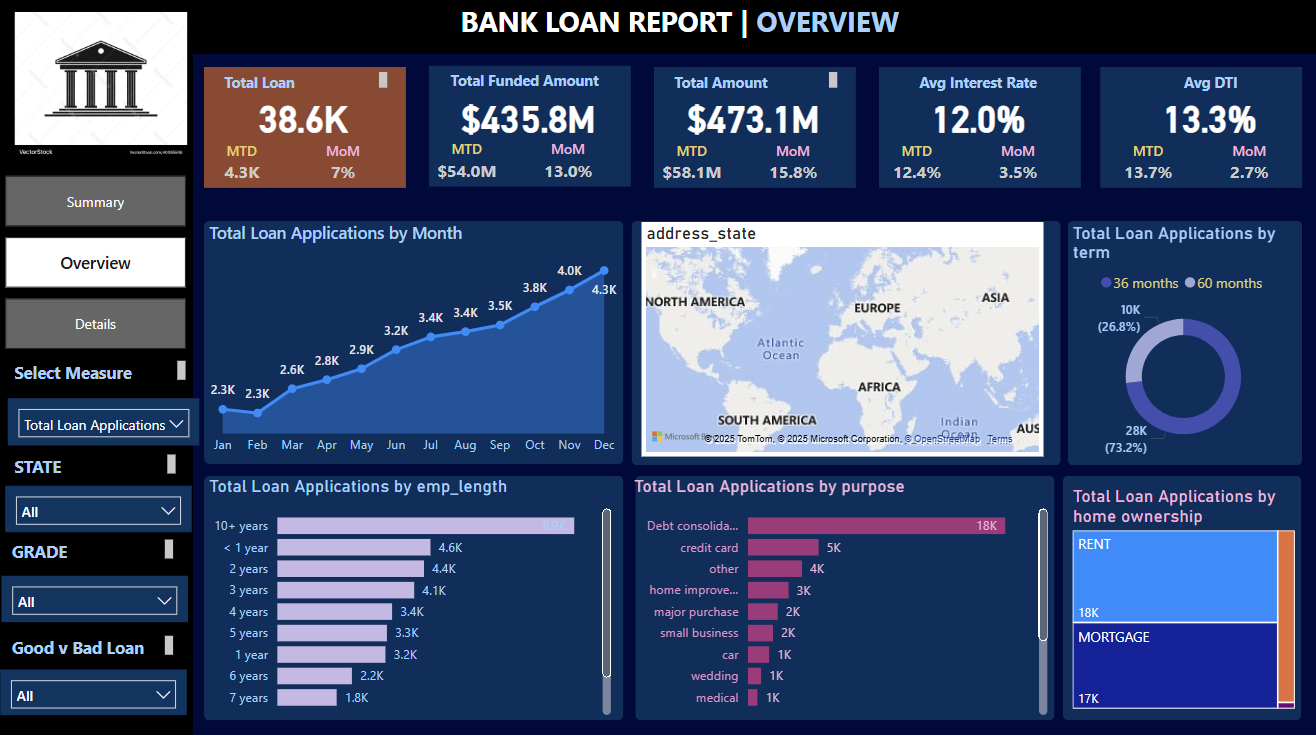

Layout of this report page (visuals, bound fields, positions):
{"tool":"powerbi","page":{"name":"Overview","canvas":[1280,720],"ordinal":1},"visuals":[{"type":"shape","box":[0,54.9,192,665.5],"z":0},{"type":"shape","box":[202.8,67.2,194.9,116.6],"z":0,"group":"g1"},{"type":"shape","box":[420,67.2,194.9,116.6],"z":0,"group":"g2"},{"type":"shape","box":[637.2,67.2,194.9,116.6],"z":0,"group":"g3"},{"type":"shape","box":[854.5,67.2,194.9,116.6],"z":0,"group":"g4"},{"type":"shape","box":[1067.6,67.2,194.9,116.6],"z":0,"group":"g5"},{"type":"card","fields":{"Values":["bank_loan_data.Total Loan Applications"]},"box":[198.7,91.9,199,46.7],"z":1000,"group":"g1"},{"type":"card","fields":{"Values":["bank_loan_data.Total funded Amount"]},"box":[415.9,91.9,199,46.7],"z":1000,"group":"g2"},{"type":"card","fields":{"Values":["bank_loan_data.Total Amount Received"]},"box":[633.1,91.9,199,46.7],"z":1000,"group":"g3"},{"type":"card","fields":{"Values":["bank_loan_data.Avg Interest Rate"]},"box":[850.4,91.9,199,46.7],"z":1000,"group":"g4"},{"type":"card","fields":{"Values":["bank_loan_data.Avg DTI"]},"box":[1073.1,91.9,199,46.7],"z":1000,"group":"g5"},{"type":"shape","box":[203.1,215.4,405,235],"z":1000},{"type":"shape","box":[0,0,1280.3,54.9],"z":2000},{"type":"textbox","box":[435.2,66.9,166,30.2],"z":2000,"group":"g2"},{"type":"textbox","box":[216.5,67.2,167.4,30.2],"z":2000,"group":"g1"},{"type":"textbox","box":[650.9,67.2,167.4,30.2],"z":2000,"group":"g3"},{"type":"textbox","box":[868.2,67.2,167.4,30.2],"z":2000,"group":"g4"},{"type":"textbox","box":[1090.9,67.2,167.4,30.2],"z":2000,"group":"g5"},{"type":"textbox","box":[444.6,0,474.8,57.6],"z":3000},{"type":"card","title":"MTD","fields":{"Values":["bank_loan_data.MTD Loan Applications"]},"box":[202.8,138.6,72.7,43.9],"z":3000,"group":"g1"},{"type":"card","title":"MTD","fields":{"Values":["bank_loan_data.MTD Funded Amount"]},"box":[420,138.6,72.7,43.9],"z":3000,"group":"g2"},{"type":"card","title":"MTD","fields":{"Values":["bank_loan_data.MTD Total Amount recieved"]},"box":[637.2,138.6,72.7,43.9],"z":3000,"group":"g3"},{"type":"card","title":"MTD","fields":{"Values":["bank_loan_data.MTD Avg Interest Rate"]},"box":[854.5,138.6,72.7,43.9],"z":3000,"group":"g4"},{"type":"card","title":"MTD","fields":{"Values":["bank_loan_data.MTD Avg DTI"]},"box":[1077.2,138.6,72.7,43.9],"z":3000,"group":"g5"},{"type":"group","id":"g1","title":"Group 1","box":[198.7,67.2,199,116.6],"z":4000},{"type":"card","title":"MoM","fields":{"Values":["bank_loan_data.MoM Loan Application"]},"box":[300.2,138.6,72.7,43.9],"z":4000,"group":"g1"},{"type":"card","title":"MoM","fields":{"Values":["bank_loan_data.MoM Total Funded Amount"]},"box":[517.4,138.6,72.7,43.9],"z":4000,"group":"g2"},{"type":"card","title":"MoM","fields":{"Values":["bank_loan_data.MoM Total Amount Received"]},"box":[734.6,138.6,72.7,43.9],"z":4000,"group":"g3"},{"type":"card","title":"MoM","fields":{"Values":["bank_loan_data.MoM Average Int Rate"]},"box":[951.9,138.6,72.7,43.9],"z":4000,"group":"g4"},{"type":"card","title":"MoM","fields":{"Values":["bank_loan_data.MoM Average DTI"]},"box":[1174.6,138.6,72.7,43.9],"z":4000,"group":"g5"},{"type":"group","id":"g2","title":"Group 1","box":[415.9,66.9,199,117],"z":5000},{"type":"group","id":"g3","title":"Group 1","box":[633.1,67.2,199,116.6],"z":6000},{"type":"group","id":"g4","title":"Group 1","box":[850.4,67.2,199,116.6],"z":7000},{"type":"group","id":"g5","title":"Group 1","box":[1067.6,67.2,204.5,116.6],"z":8000},{"type":"slicer","fields":{"Values":["bank_loan_data.address_state"]},"box":[10.8,471.3,179.6,44.6],"z":9000},{"type":"textbox","box":[14.9,436.2,166.1,29.7],"z":10000},{"type":"slicer","fields":{"Values":["bank_loan_data.grade"]},"box":[6.8,559.1,179.6,44.6],"z":11000},{"type":"slicer","fields":{"Values":["bank_loan_data.Good v Bad Loan"]},"box":[5.5,649.1,179.8,43.9],"z":12000},{"type":"textbox","box":[12.3,612,166,30.2],"z":13000},{"type":"textbox","box":[12.2,518.6,166.1,29.7],"z":14000},{"type":"slicer","fields":{"Values":["New Measure.New Measure"]},"box":[13.5,387.6,185,45.9],"z":15000},{"type":"textbox","box":[14.9,345.7,175.6,29.7],"z":16000},{"type":"areaChart","fields":{"Y":["bank_loan_data.Total Loan Applications"],"Category":["Date Table.Month"]},"box":[203.1,215.4,404.8,234.6],"z":17000},{"type":"shape","box":[614.8,215.4,414.4,236],"z":18000},{"type":"shape","box":[1036,215.4,226.4,236],"z":19000},{"type":"filledMap","fields":{"Category":["bank_loan_data.address_state"]},"box":[624.4,216.8,388.3,226.4],"z":20000},{"type":"donutChart","fields":{"Y":["bank_loan_data.Total Loan Applications"],"Category":["bank_loan_data.term"]},"box":[1036,216.8,223.7,230.5],"z":21000},{"type":"shape","box":[203.1,462.4,404.8,236],"z":22000},{"type":"shape","box":[618.9,462.4,404.8,236],"z":23000},{"type":"barChart","fields":{"Y":["bank_loan_data.Total Loan Applications"],"Category":["bank_loan_data.emp_length"]},"box":[203.1,462.4,397.9,236],"z":24000},{"type":"barChart","fields":{"Y":["bank_loan_data.Total Loan Applications"],"Category":["bank_loan_data.purpose"]},"box":[613.4,462.4,408.9,236],"z":25000},{"type":"shape","box":[1031.9,462.4,230.5,236],"z":26000},{"type":"treemap","fields":{"Values":["bank_loan_data.Total Loan Applications"],"Group":["bank_loan_data.home_ownership"]},"box":[1035.8,471.3,224.2,220.1],"z":27000},{"type":"pageNavigator","box":[10.8,172.9,174.2,168.8],"z":28000},{"type":"image","box":[6.8,9.5,191.8,151.3],"z":29000}]}

Visuals, with their boxes in screenshot pixels (x1, y1, x2, y2), scaled from the page's 1280x720 canvas onto the 1316x735 screenshot:
shape: left=0, top=56, right=197, bottom=734
shape: left=209, top=69, right=409, bottom=188
shape: left=432, top=69, right=632, bottom=188
shape: left=655, top=69, right=856, bottom=188
shape: left=879, top=69, right=1079, bottom=188
shape: left=1098, top=69, right=1298, bottom=188
card - bank_loan_data.Total Loan Applications: left=204, top=94, right=409, bottom=141
card - bank_loan_data.Total funded Amount: left=428, top=94, right=632, bottom=141
card - bank_loan_data.Total Amount Received: left=651, top=94, right=856, bottom=141
card - bank_loan_data.Avg Interest Rate: left=874, top=94, right=1079, bottom=141
card - bank_loan_data.Avg DTI: left=1103, top=94, right=1308, bottom=141
shape: left=209, top=220, right=625, bottom=460
shape: left=0, top=0, right=1315, bottom=56
textbox: left=447, top=68, right=618, bottom=99
textbox: left=223, top=69, right=395, bottom=99
textbox: left=669, top=69, right=841, bottom=99
textbox: left=893, top=69, right=1065, bottom=99
textbox: left=1122, top=69, right=1294, bottom=99
textbox: left=457, top=0, right=945, bottom=59
"MTD" card: left=209, top=141, right=283, bottom=186
"MTD" card: left=432, top=141, right=507, bottom=186
"MTD" card: left=655, top=141, right=730, bottom=186
"MTD" card: left=879, top=141, right=953, bottom=186
"MTD" card: left=1107, top=141, right=1182, bottom=186
"Group 1" group: left=204, top=69, right=409, bottom=188
"MoM" card: left=309, top=141, right=383, bottom=186
"MoM" card: left=532, top=141, right=607, bottom=186
"MoM" card: left=755, top=141, right=830, bottom=186
"MoM" card: left=979, top=141, right=1053, bottom=186
"MoM" card: left=1208, top=141, right=1282, bottom=186
"Group 1" group: left=428, top=68, right=632, bottom=188
"Group 1" group: left=651, top=69, right=856, bottom=188
"Group 1" group: left=874, top=69, right=1079, bottom=188
"Group 1" group: left=1098, top=69, right=1308, bottom=188
slicer - bank_loan_data.address_state: left=11, top=481, right=196, bottom=527
textbox: left=15, top=445, right=186, bottom=476
slicer - bank_loan_data.grade: left=7, top=571, right=192, bottom=616
slicer - bank_loan_data.Good v Bad Loan: left=6, top=663, right=191, bottom=707
textbox: left=13, top=625, right=183, bottom=656
textbox: left=13, top=529, right=183, bottom=560
slicer - New Measure.New Measure: left=14, top=396, right=204, bottom=443
textbox: left=15, top=353, right=196, bottom=383
areaChart - bank_loan_data.Total Loan Applications x Date Table.Month: left=209, top=220, right=625, bottom=459
shape: left=632, top=220, right=1058, bottom=461
shape: left=1065, top=220, right=1298, bottom=461
filledMap - bank_loan_data.address_state: left=642, top=221, right=1041, bottom=452
donutChart - bank_loan_data.Total Loan Applications x bank_loan_data.term: left=1065, top=221, right=1295, bottom=457
shape: left=209, top=472, right=625, bottom=713
shape: left=636, top=472, right=1052, bottom=713
barChart - bank_loan_data.Total Loan Applications x bank_loan_data.emp_length: left=209, top=472, right=618, bottom=713
barChart - bank_loan_data.Total Loan Applications x bank_loan_data.purpose: left=631, top=472, right=1051, bottom=713
shape: left=1061, top=472, right=1298, bottom=713
treemap - bank_loan_data.Total Loan Applications x bank_loan_data.home_ownership: left=1065, top=481, right=1295, bottom=706
pageNavigator: left=11, top=177, right=190, bottom=349
image: left=7, top=10, right=204, bottom=164
